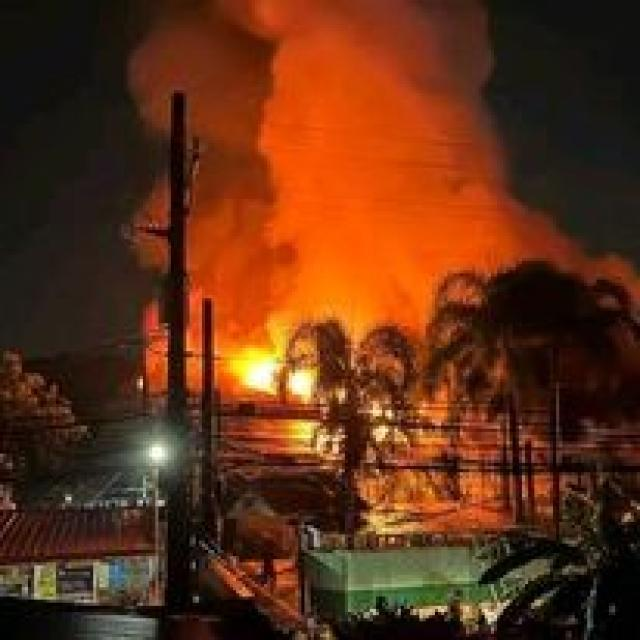Fire: (235, 328, 333, 408)
Smoke: (247, 14, 610, 328), (184, 44, 338, 390)
